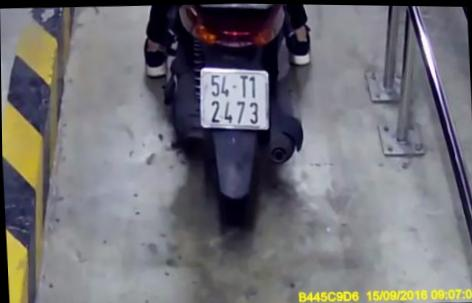LP: (197, 62, 273, 133)
